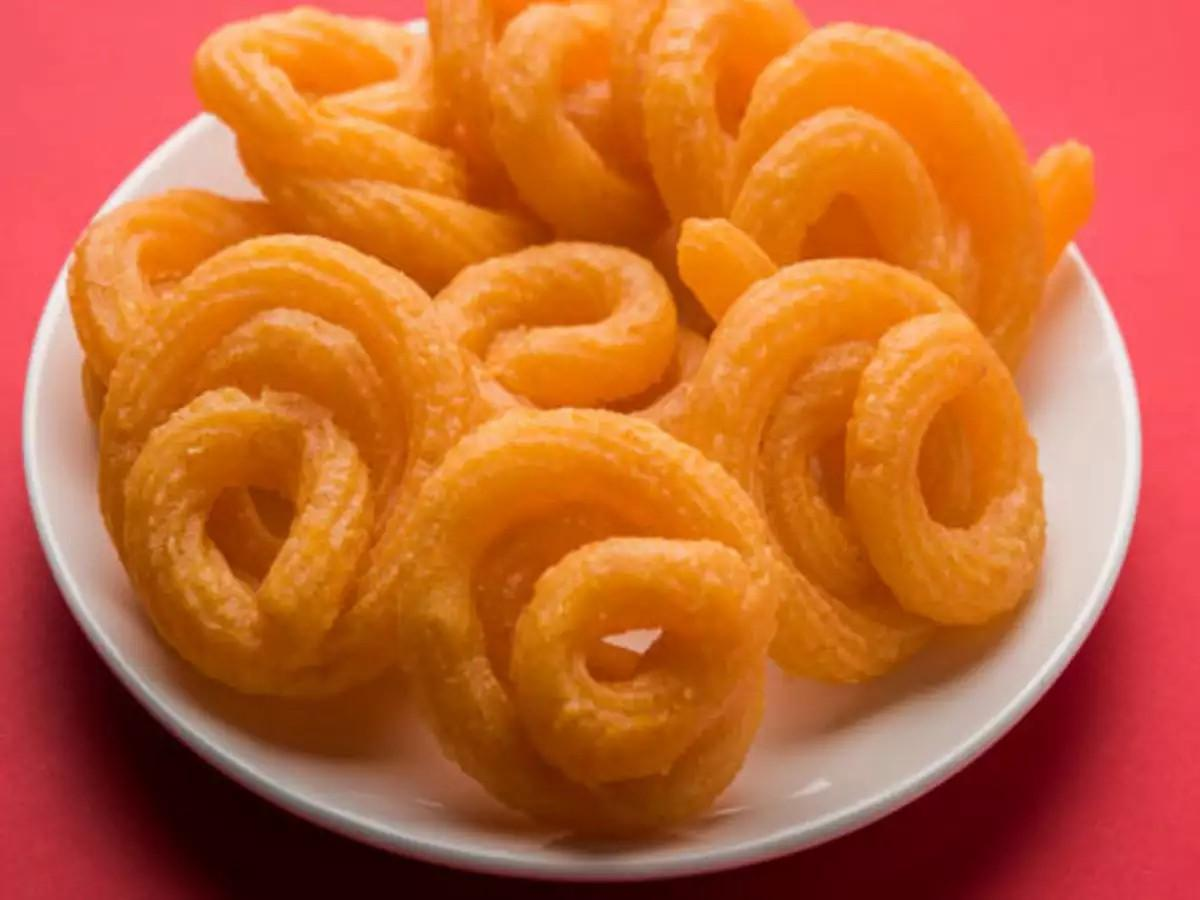Jalebi: (71, 0, 1099, 833)
